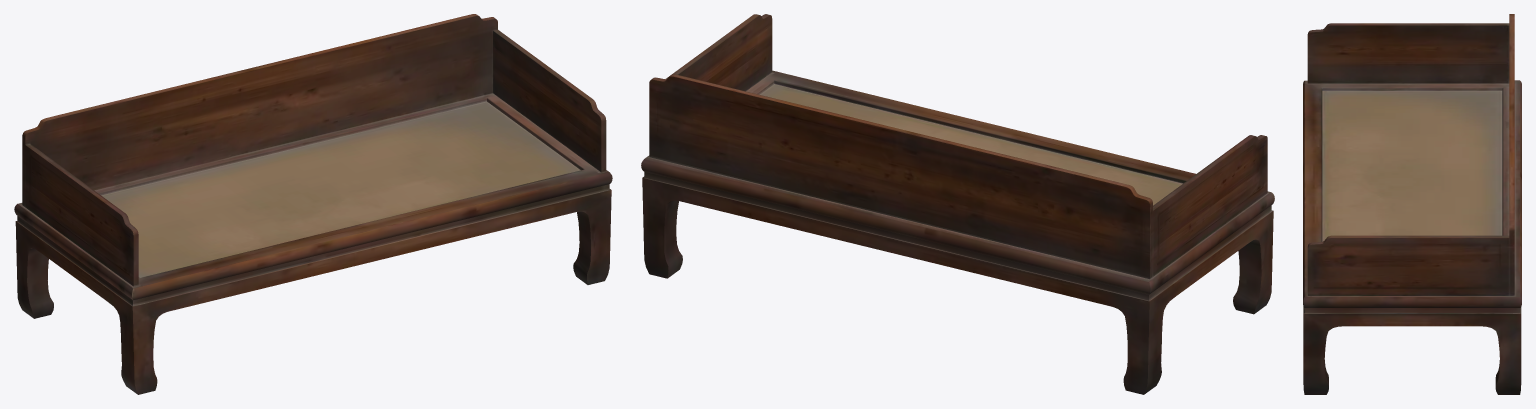
File: chinese_sofa.glb
3 views of the same model, side by side, from view 1: azimuth 30°, elevation 25°; view 2: azimuth 150°, elevation 25°; view 3: azimuth 270°, elevation 25° (orthographic). The views are drawn at different scales.
Visible parts, largest first — view 1: chinese_sofa; view 2: chinese_sofa; view 3: chinese_sofa.
Part boxes in pixels (box(x1,y1,x2,y2)): chinese_sofa: box(14, 14, 612, 394); chinese_sofa: box(641, 14, 1274, 394); chinese_sofa: box(1303, 14, 1521, 394).
Bounding box in the file's own units: 2.29 × 0.8599 × 0.9687.
Materials: 1 (1 with a texture image).
